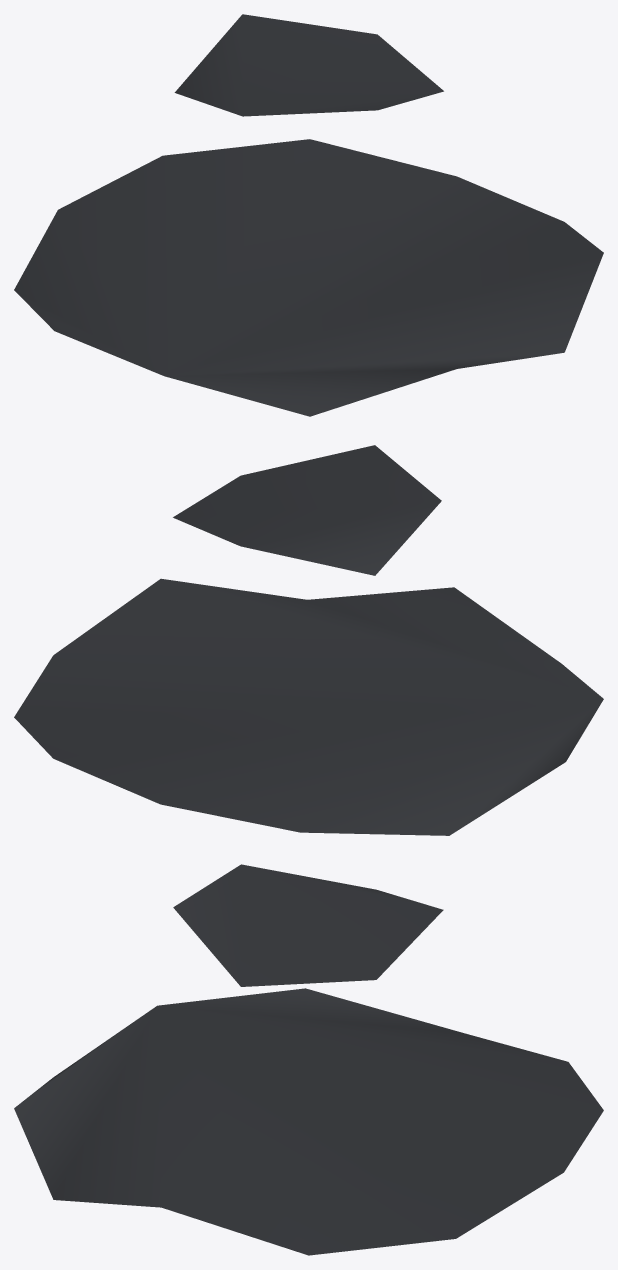
The model's file is SM_Prop_Candle_Chandelier_02_Particle.fbx.
3 renders of one model, top to bottom at view 1: azimuth 30°, elevation 25°; view 2: azimuth 150°, elevation 25°; view 3: azimuth 270°, elevation 25°, orthographic.
Visible parts, largest first — view 1: SM_Prop_Candle_Chandelier_02_Particle; view 2: SM_Prop_Candle_Chandelier_02_Particle; view 3: SM_Prop_Candle_Chandelier_02_Particle.
Boxes of the visible parts, bbox=[...] form: SM_Prop_Candle_Chandelier_02_Particle: bbox=[14, 14, 603, 416]; SM_Prop_Candle_Chandelier_02_Particle: bbox=[14, 445, 603, 835]; SM_Prop_Candle_Chandelier_02_Particle: bbox=[14, 864, 603, 1255].
Bounding box in the file's own units: 2.2 × 0.9553 × 2.2.
